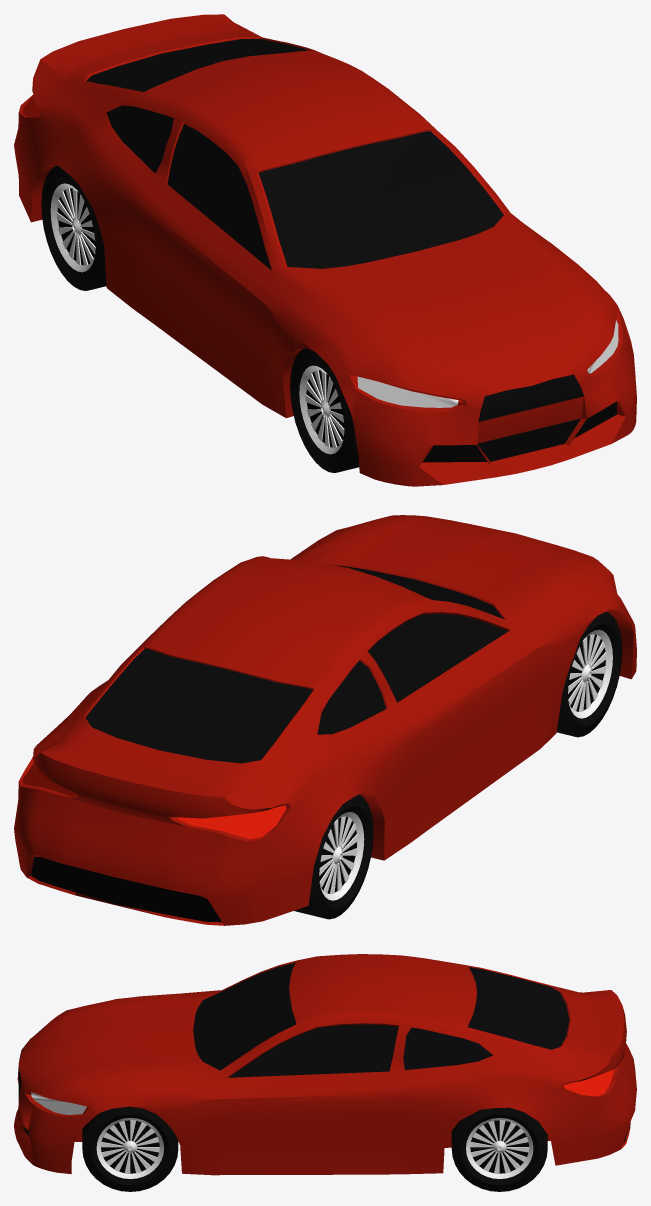
File: car (1).fbx
3 renders of one model, top to bottom at view 1: azimuth 30°, elevation 25°; view 2: azimuth 150°, elevation 25°; view 3: azimuth 270°, elevation 25°, orthographic. The views are drawn at different scales.
Visible parts, largest first — view 1: Cube, Cylinder.002, Cylinder.001; view 2: Cube, Cylinder.001, Cylinder.002; view 3: Cube, Cylinder.004, Cylinder.003.
Part boxes in pixels (<box>): Cube: <box>14,14,636,486</box>; Cylinder.002: <box>290,348,359,472</box>; Cylinder.001: <box>41,165,106,290</box>; Cube: <box>14,515,636,925</box>; Cylinder.001: <box>294,794,373,919</box>; Cylinder.002: <box>557,611,622,737</box>; Cube: <box>14,954,636,1175</box>; Cylinder.004: <box>451,1107,547,1191</box>; Cylinder.003: <box>82,1106,178,1191</box>.
Bounding box in the file's own units: 387 × 288 × 985.
